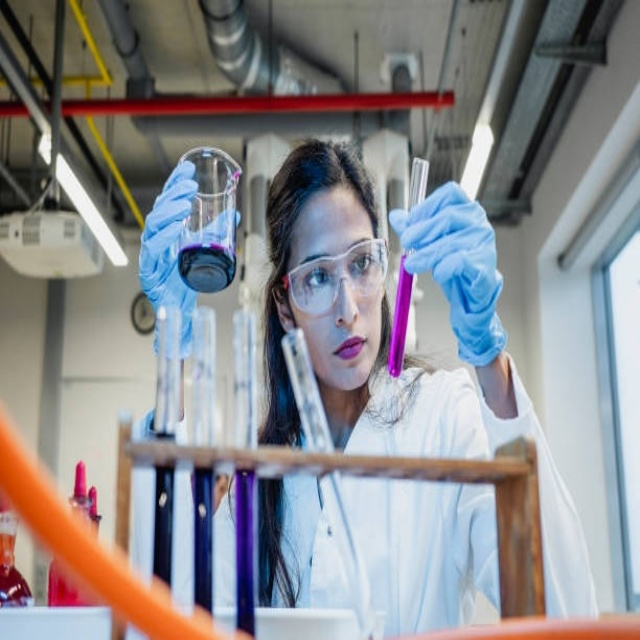Gafas: (284, 238, 388, 316)
Guantes: (388, 180, 507, 367), (137, 158, 238, 364)
Sin_mascara: (322, 326, 374, 379)
